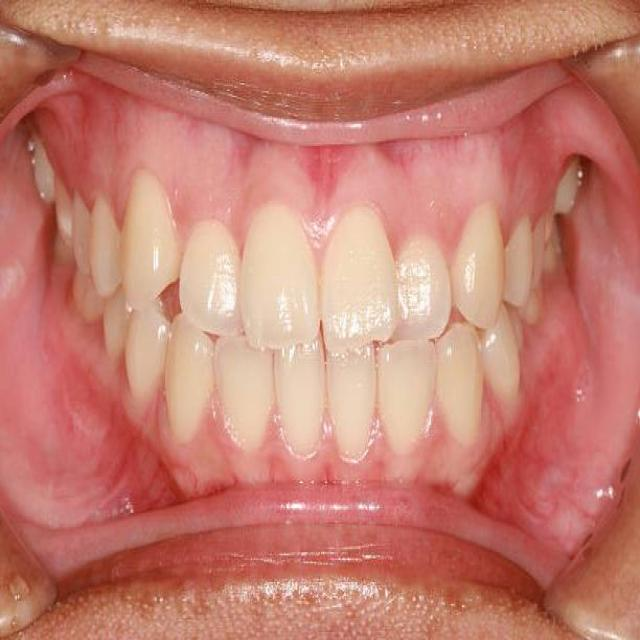Gingivitis: (471, 416, 562, 508), (104, 432, 178, 506)
